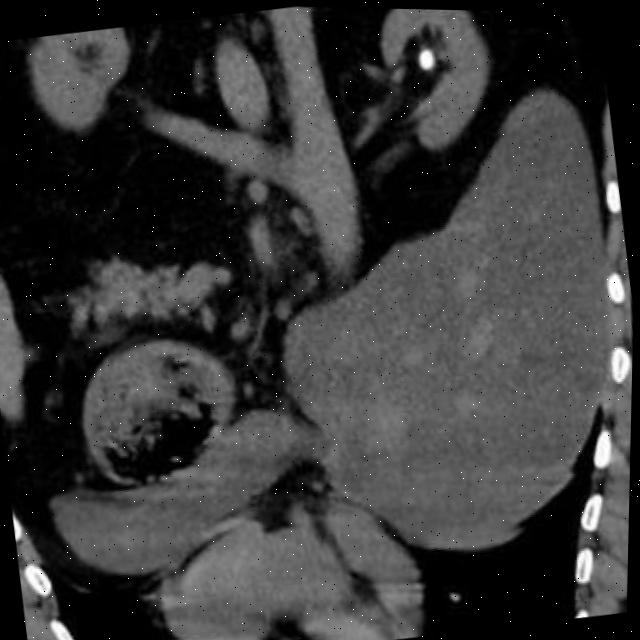Tas_Var: (414, 44, 443, 77)
